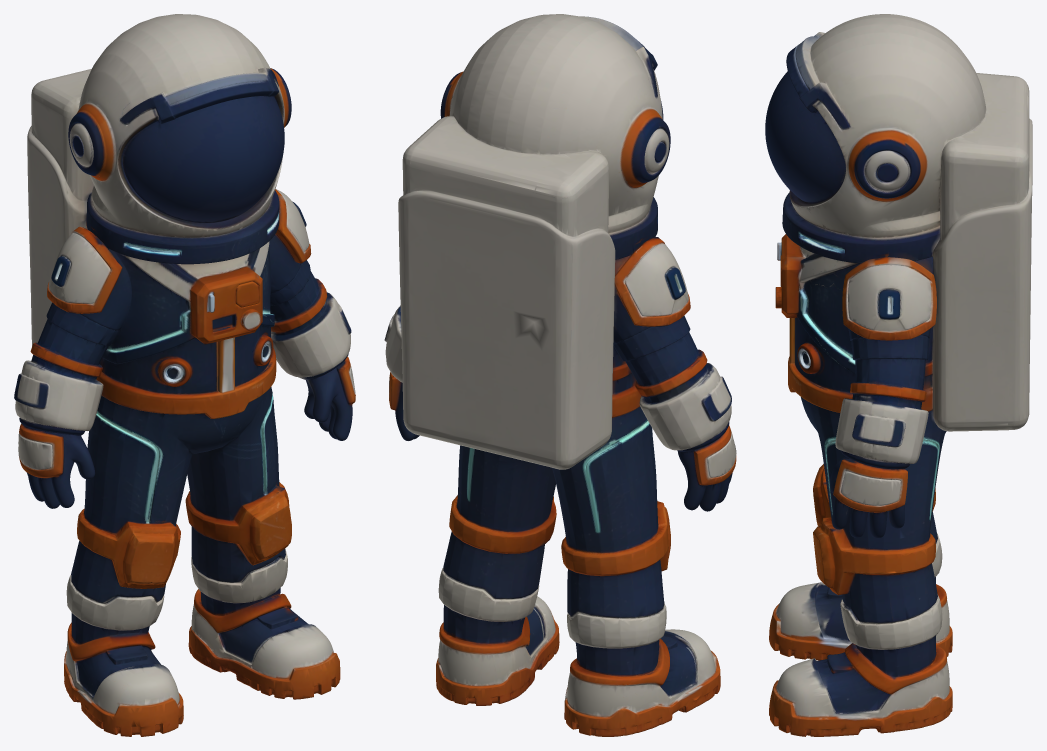
Rendered from agent-23.glb.
The picture shows the model from 3 angles, left to right: view 1: azimuth 30°, elevation 25°; view 2: azimuth 150°, elevation 25°; view 3: azimuth 270°, elevation 25°; orthographic projection. The views are drawn at different scales.
Visible parts, largest first — view 1: material; view 2: material; view 3: material.
Part boxes in pixels (x1,y1,x2,y2): material: [14, 14, 355, 736]; material: [384, 14, 736, 736]; material: [765, 14, 1032, 736].
Size of the model in its own units: 0.5689 by 1.09 by 0.4025.
Materials: 1 (1 with a texture image).
